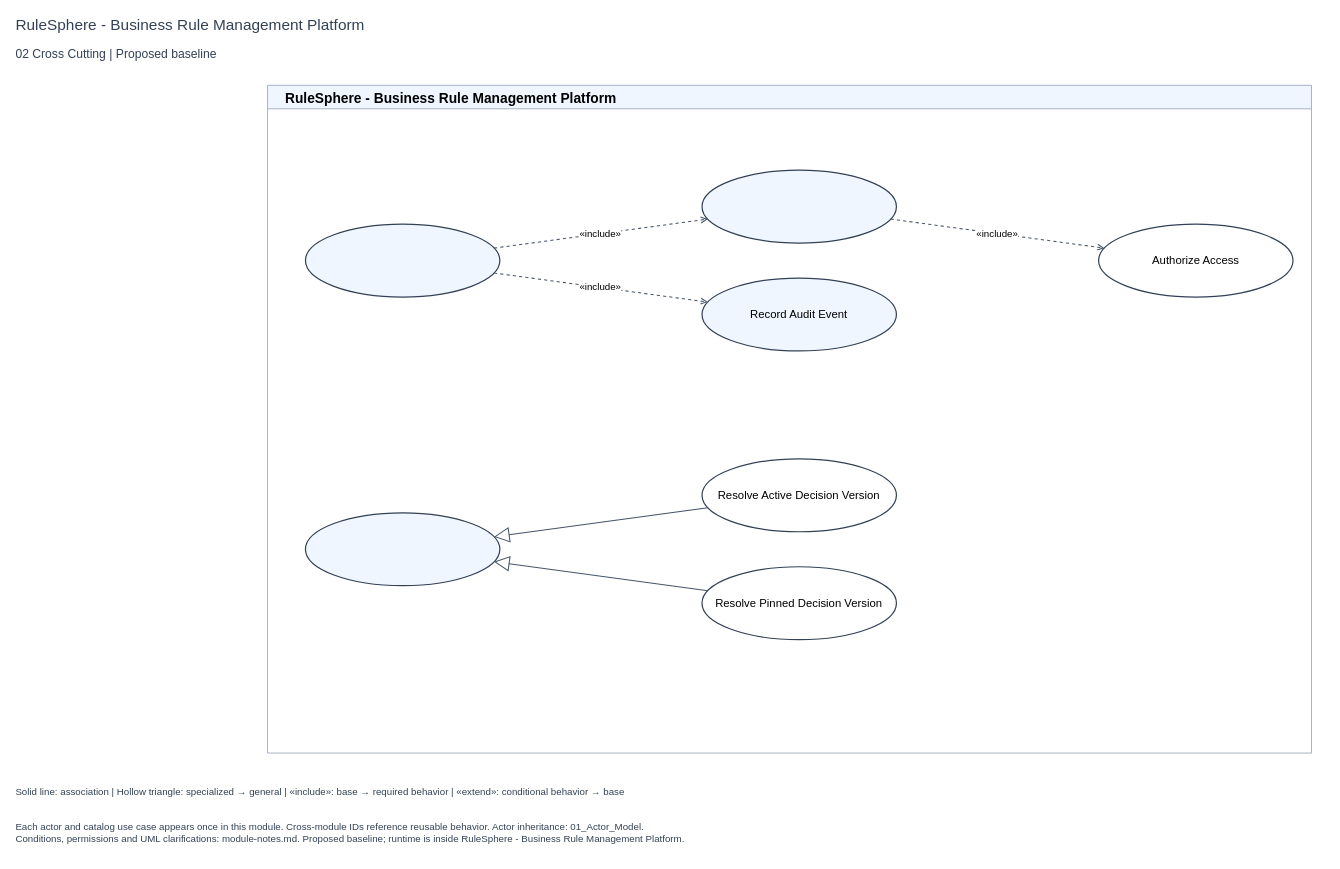
Image size: 1340x869. Some labels were removed from this diagram. Here are the shapes that lost their labels. From the top down, the centre of each, then its label:
At [799,206]: "Authorize Operation".
At [402,260]: "State-Changing Operation".
At [402,549]: "Resolve Decision Version".
